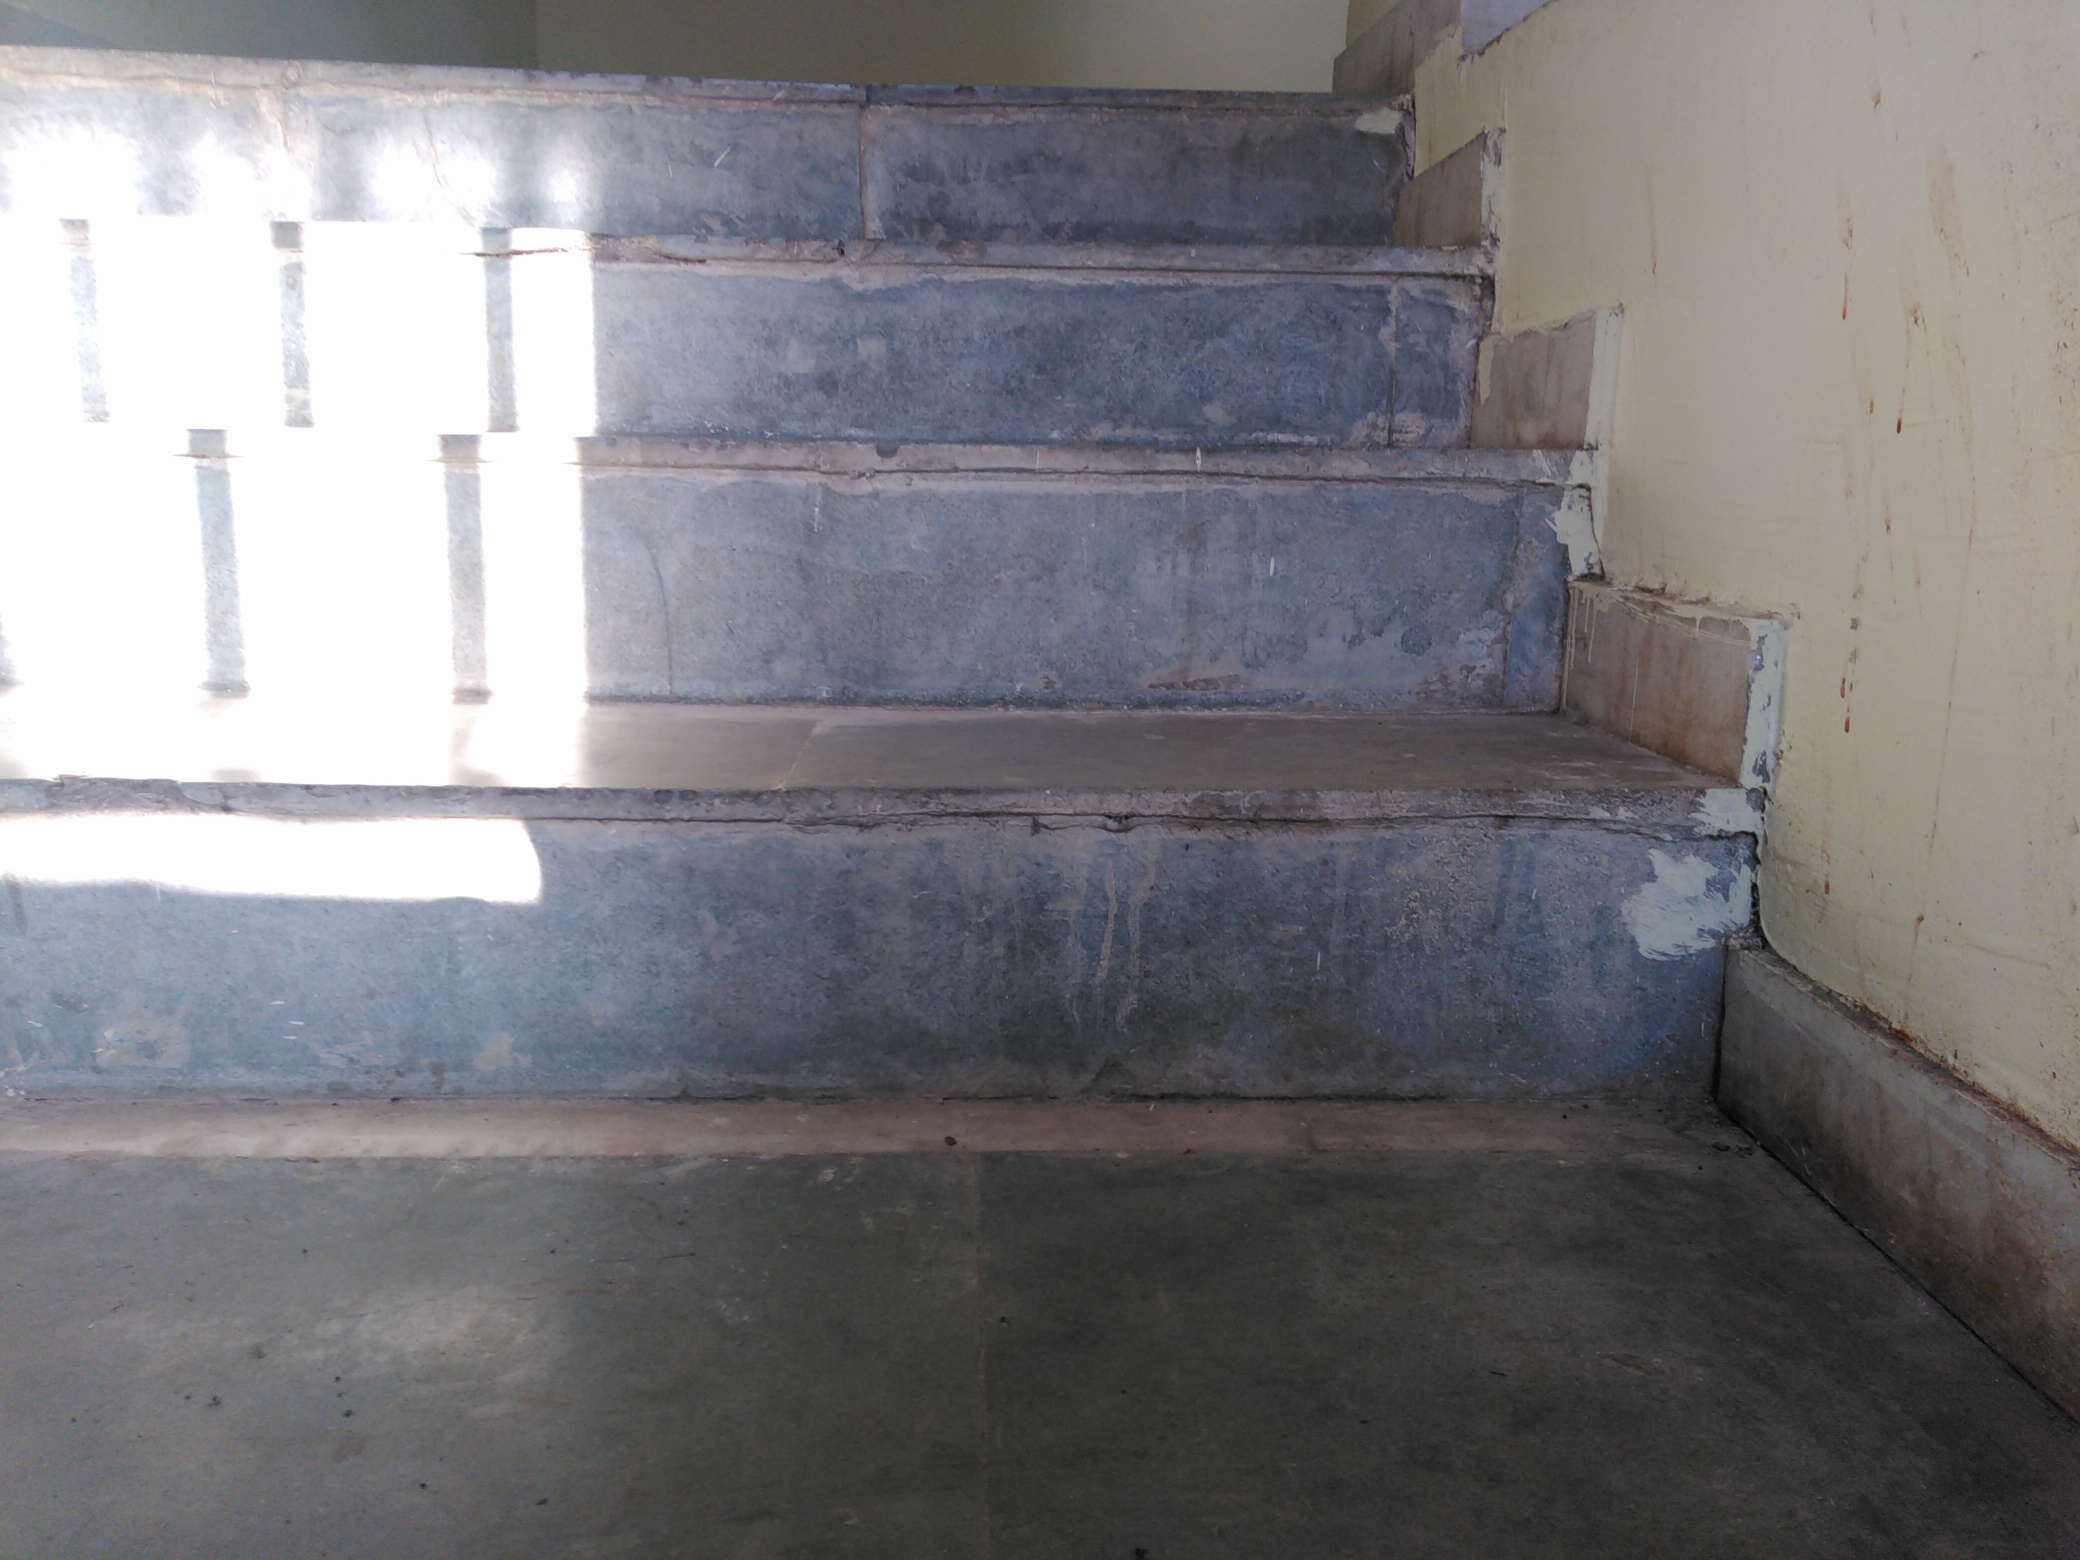stairs_up: (8, 38, 1710, 1100)
